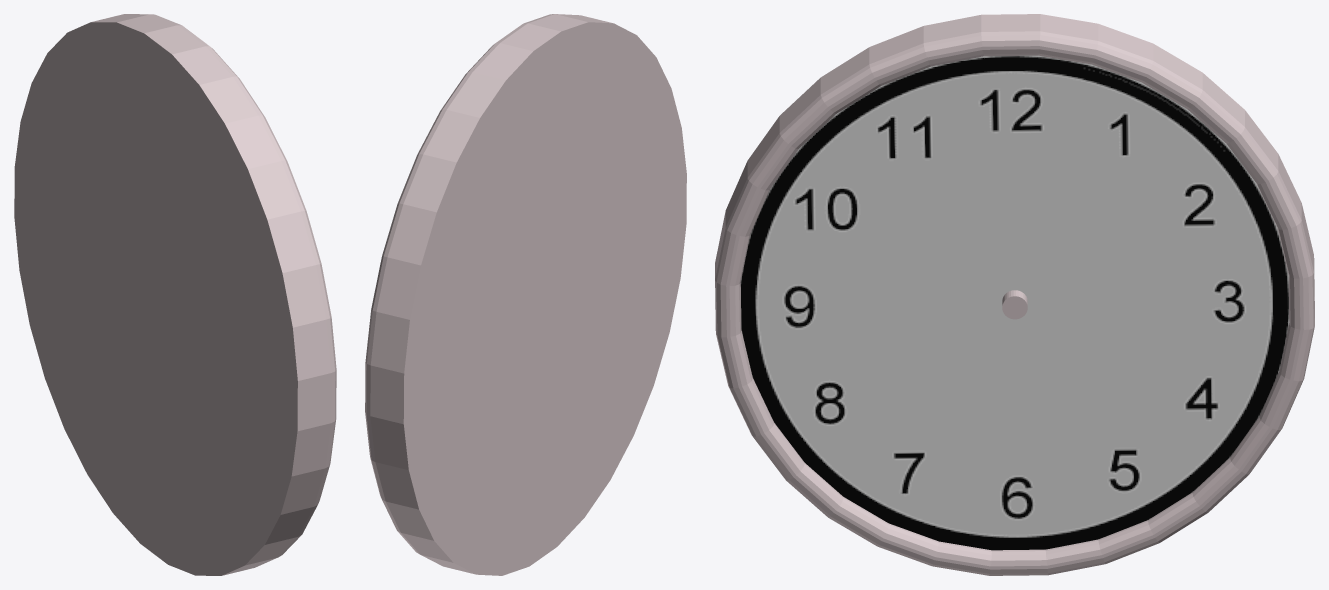
File: clock.fbx
3 views of the same model, side by side, from view 1: azimuth 30°, elevation 25°; view 2: azimuth 150°, elevation 25°; view 3: azimuth 270°, elevation 25° (orthographic). The views are drawn at different scales.
Parts seen in each view (by area): view 1: Clock; view 2: Clock; view 3: Clock.
Boxes of the visible parts, x1,y1,x2,y2 form: Clock: (14,14,336,575); Clock: (365,14,686,575); Clock: (715,14,1314,575).
Size of the model in its own units: 26.02 by 300 by 300.
2 materials, 1 textured.
